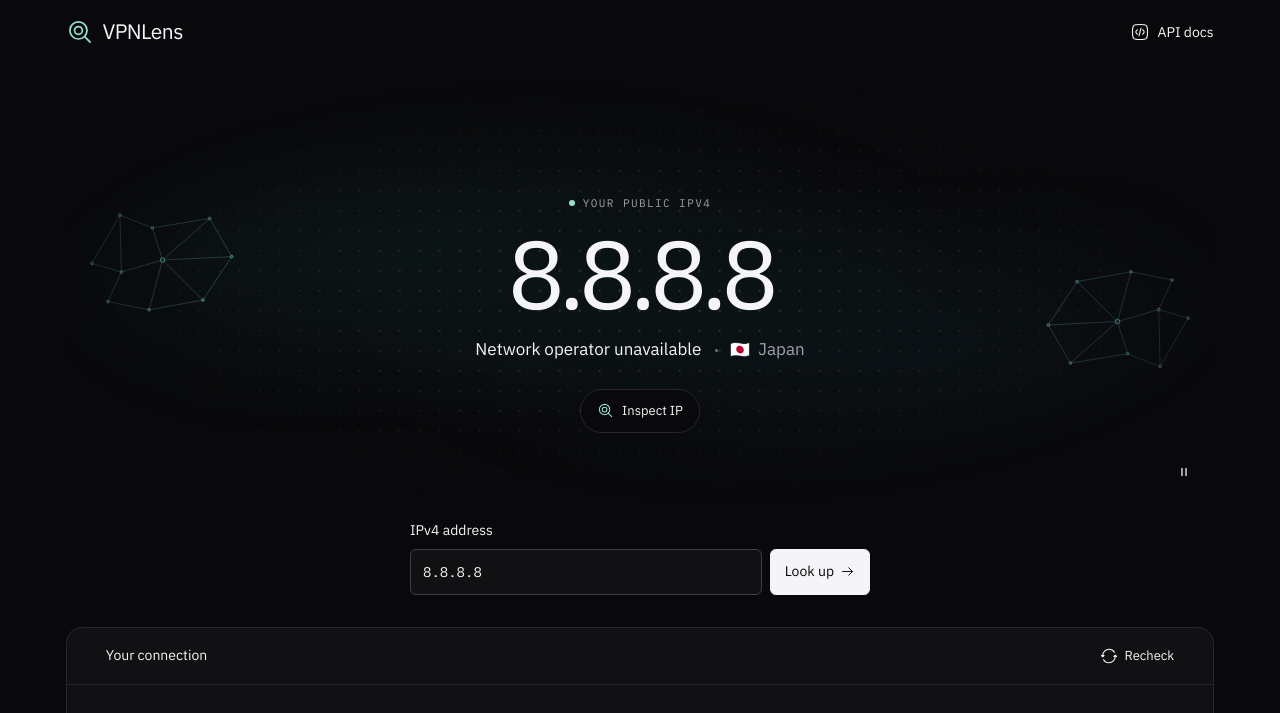
Scenario: focused live connection screen › returns from manual lookup to the latest visitor connection on Recheck
The image size is (1280, 713).
Check: the heading "8.8.8.8" is shown, box [508,225,773,321]
Step 1. Replace the text in the field labelled "IPv4 address" with "103.108.230.50" → x=586, y=572, box [410,549,762,595]
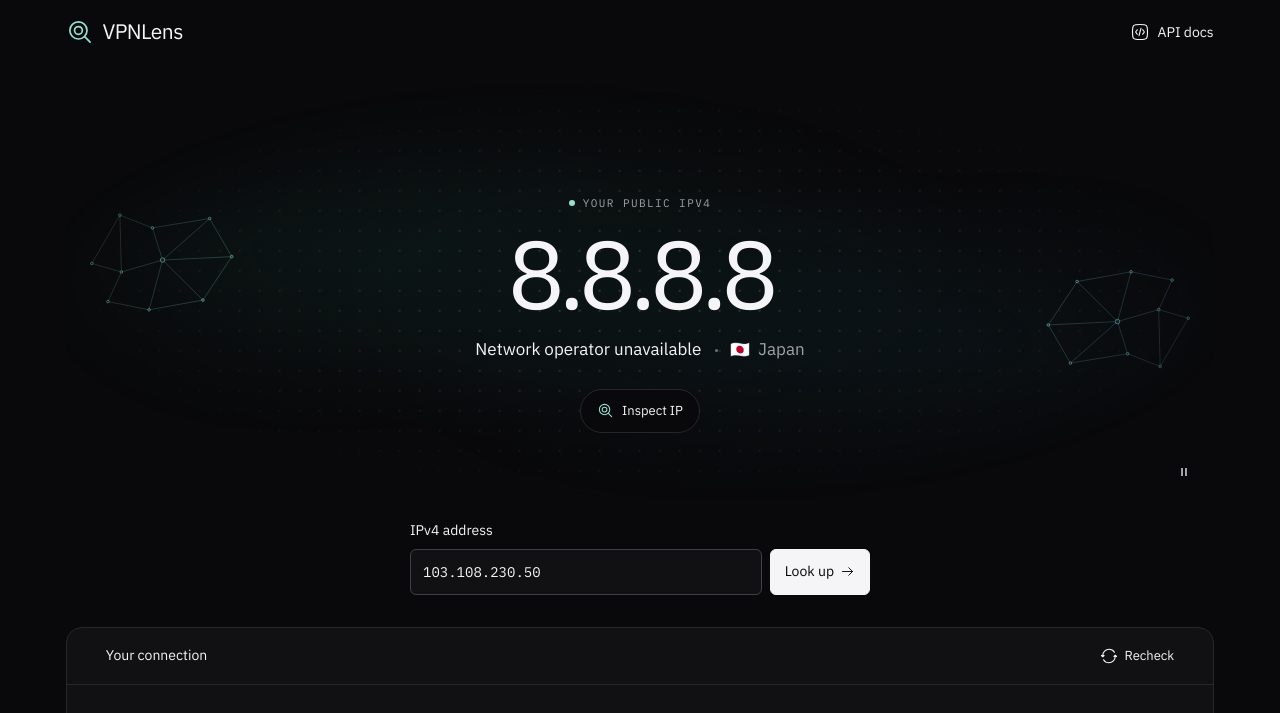
Step 2. Click the button "Look up" → x=820, y=572, box [770,549,870,595]
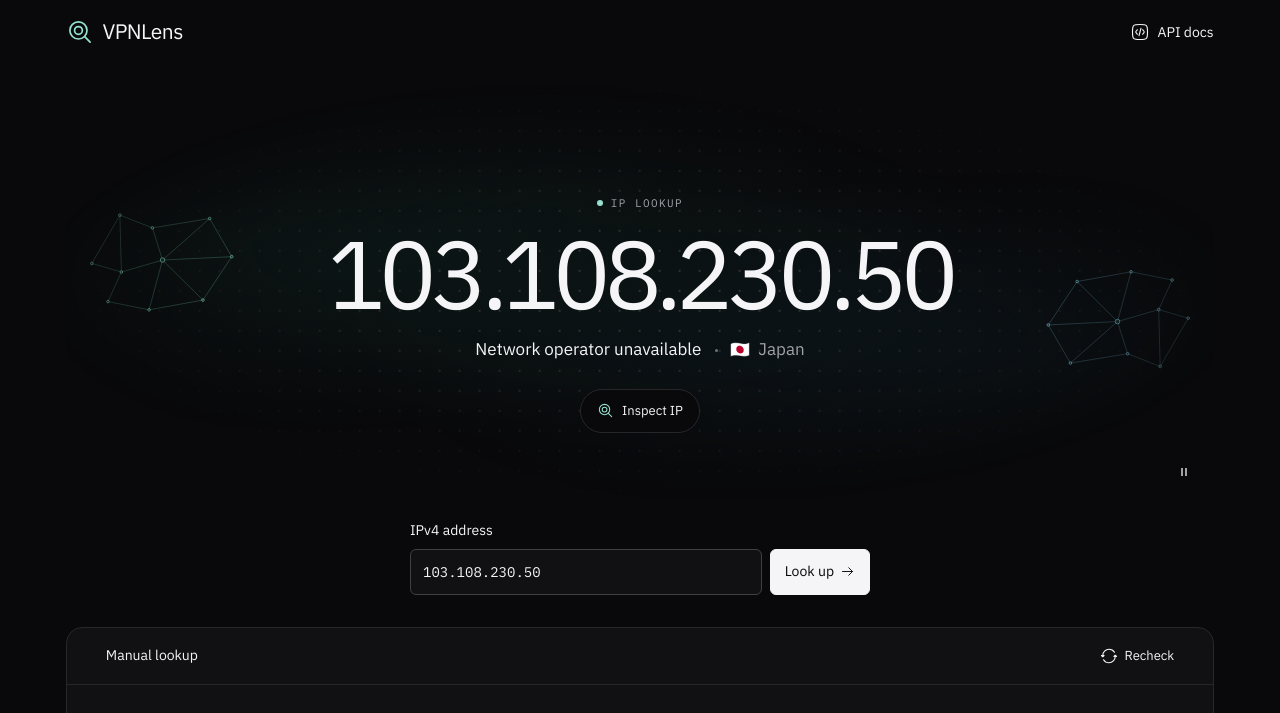
Step 3. Click the button "Recheck" → x=1137, y=656, box [1100,634,1174,678]
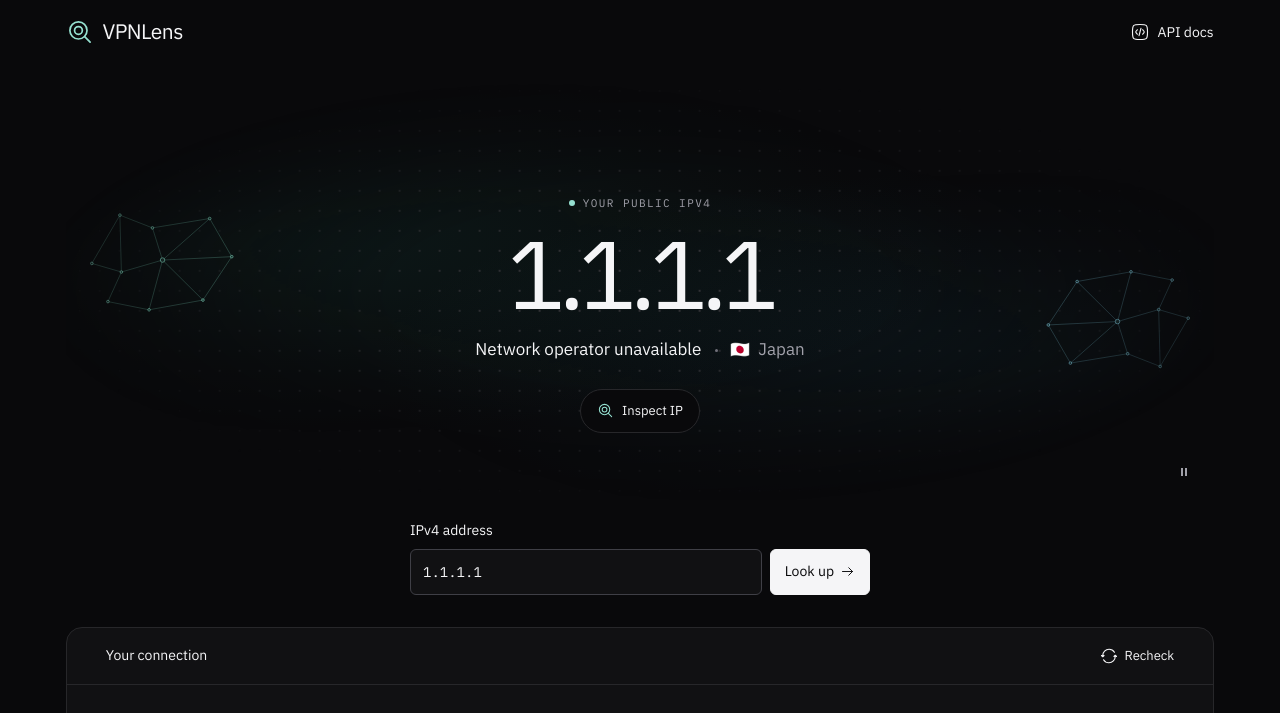
Check: the heading "1.1.1.1" is shown, box [508,225,773,321]
Check: the field labelled "IPv4 address" holds "1.1.1.1", box [410,549,762,595]
Check: the text "Your connection" is shown, box [106,645,207,666]
